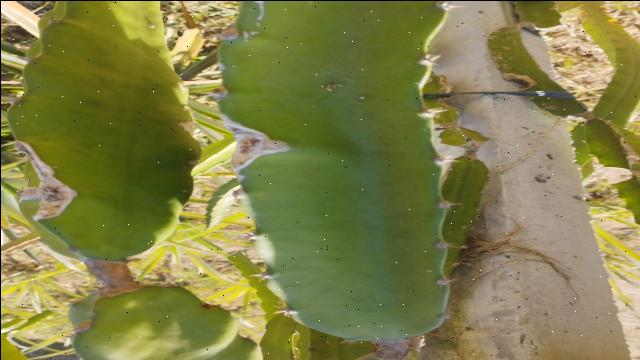stemcanker: (298, 65, 372, 108)
